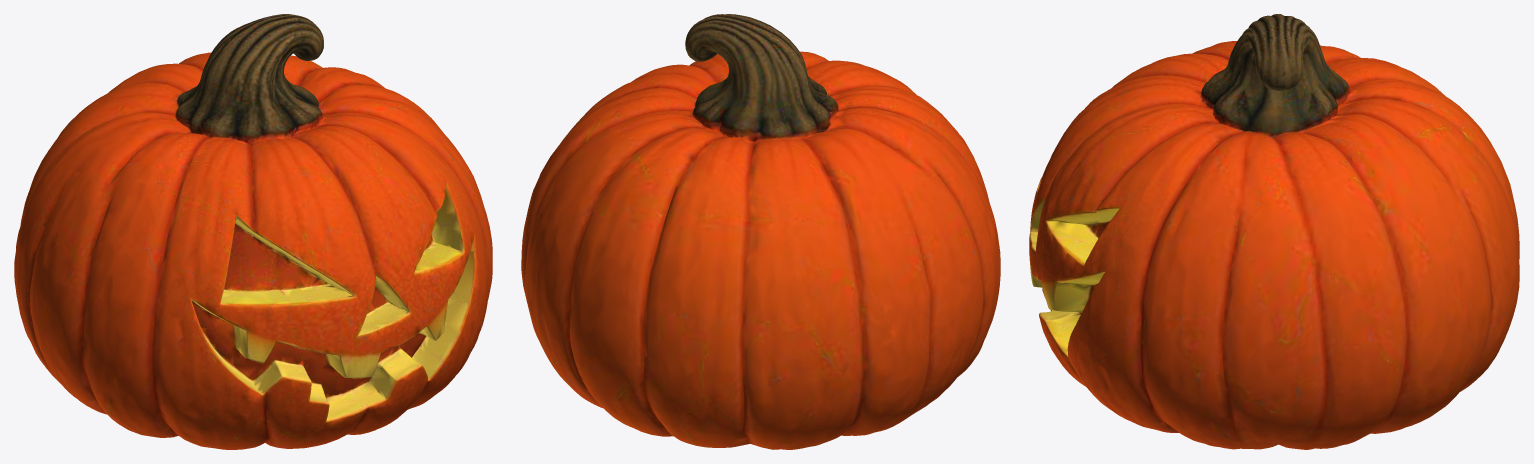
The model's file is creep-o-lantern.glb.
3 renders of one model, left to right at view 1: azimuth 30°, elevation 25°; view 2: azimuth 150°, elevation 25°; view 3: azimuth 270°, elevation 25°, orthographic. The views are drawn at different scales.
Size of the model in its own units: 1.9 by 1.58 by 1.9.
1 material, 1 textured.
